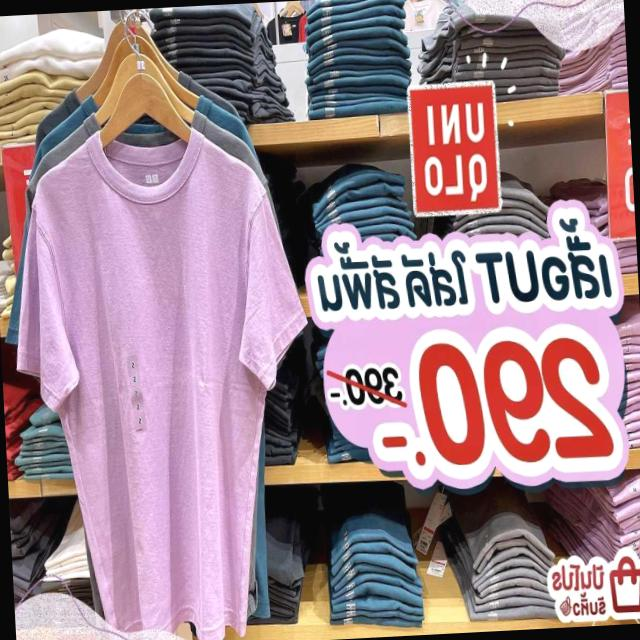Tshirt: (3, 129, 327, 640)
